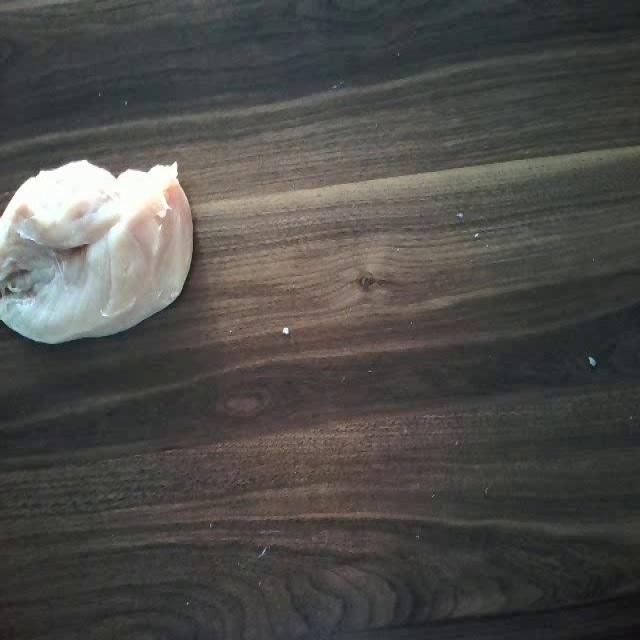breast: (0, 164, 202, 334)
